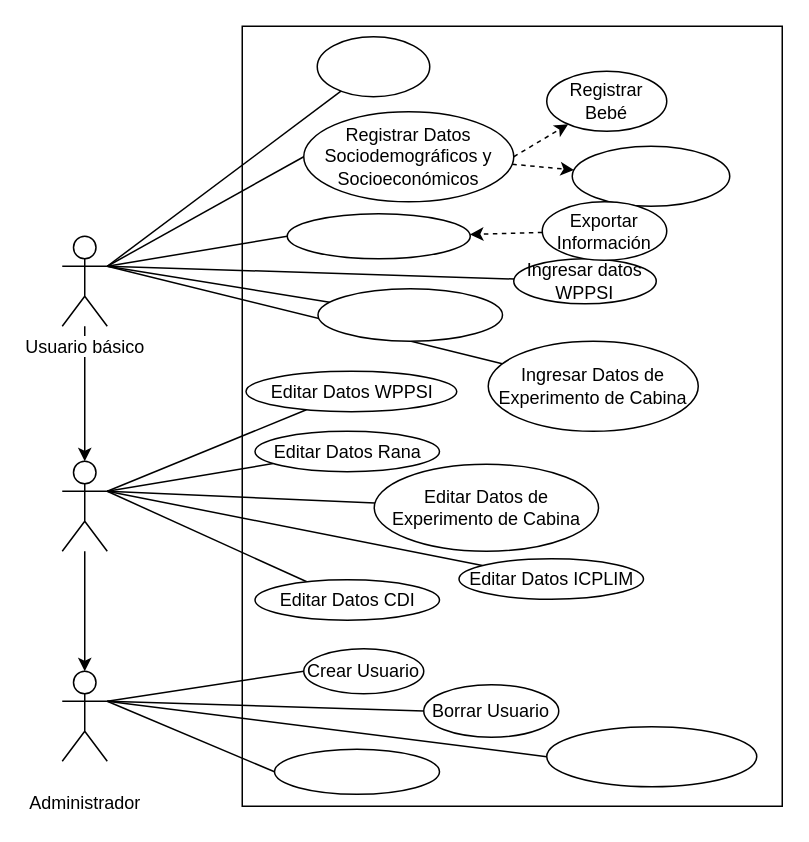
Image size: 809x842. Some labels were removed from this diagram. Here are the shapes that lost their labels. From the top down, the box of each, then its label:
(316, 35, 430, 97): Ingresar al Sistema
(571, 145, 730, 206): Registrar Cuidador
(286, 212, 470, 259): Búsqueda de Información
(316, 287, 502, 341): Ingresar Datos Rana
(61, 460, 107, 551): Capturador
(273, 748, 440, 794): Cambiar Permisos
(545, 725, 757, 787): Borrar Registros de la Base
